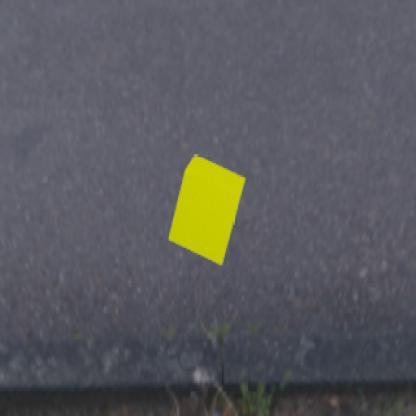cube: (168, 152, 244, 264)
